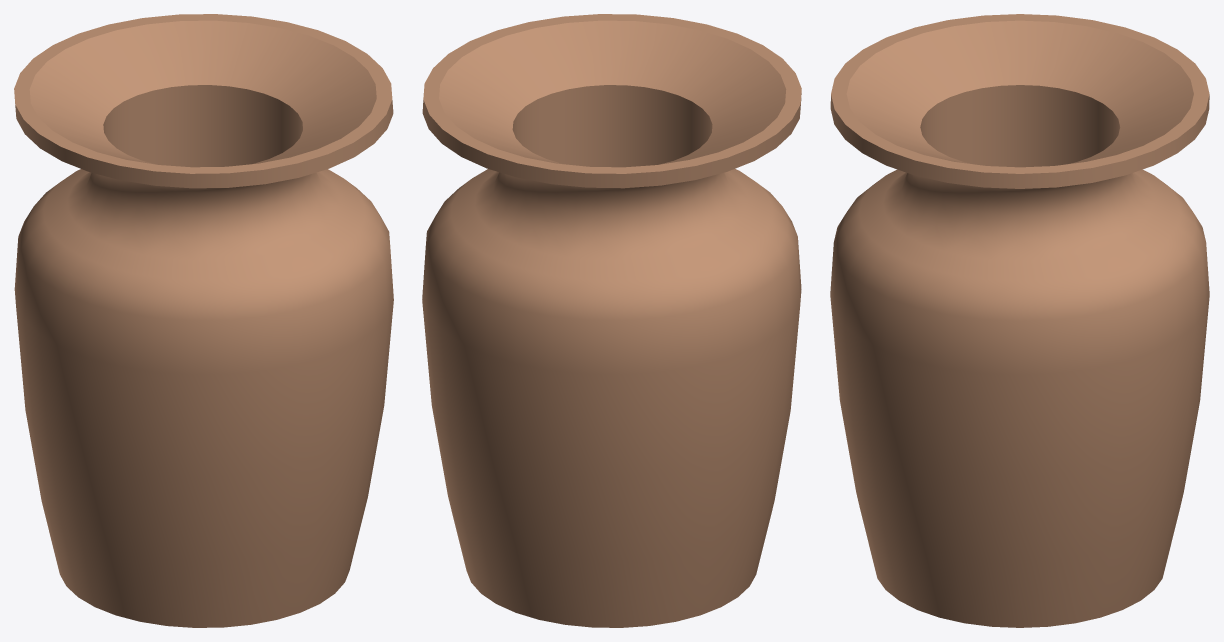
The model's file is (Item)Light-Jar.fbx.
3 views of the same model, side by side, from view 1: azimuth 30°, elevation 25°; view 2: azimuth 150°, elevation 25°; view 3: azimuth 270°, elevation 25° (orthographic).
Parts seen in each view (by area): view 1: Light Jar; view 2: Light Jar; view 3: Light Jar.
Boxes of the visible parts, x1,y1,x2,y2 form: Light Jar: (14, 14, 393, 627); Light Jar: (422, 14, 801, 627); Light Jar: (830, 14, 1209, 627).
Size of the model in its own units: 18.54 by 25.41 by 18.51.
